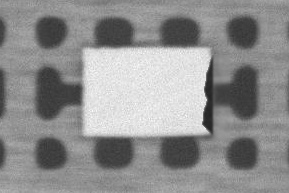DIE_BROKEN: (200, 57, 215, 134)
